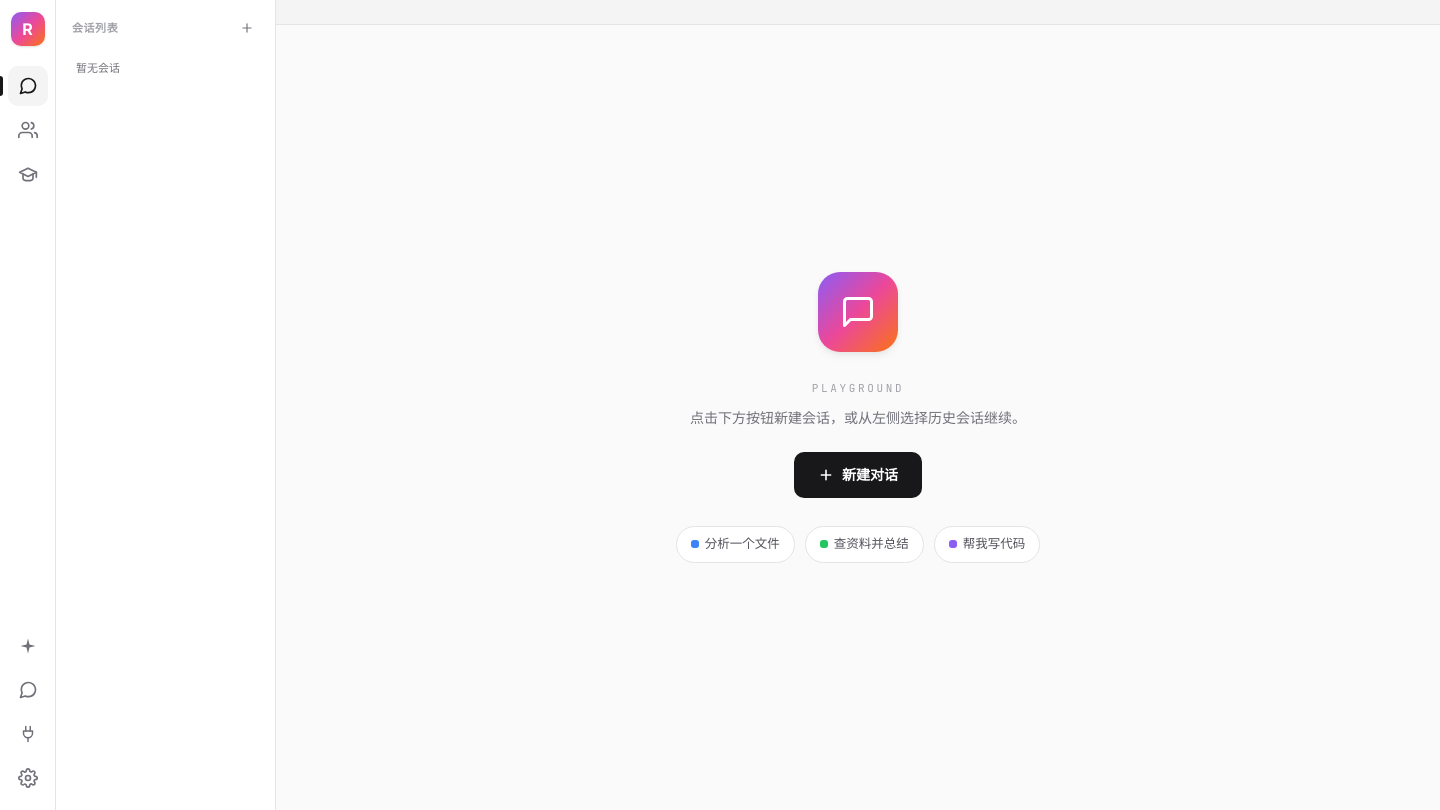
Test: AppShell（[v0.0.47] nav 删齿轮子菜单 + 底部三独立入口；[v0.0.210] +Academy） › 点 Academy → 主区切到 page-academy（[v0.0.210] Academy 教室培养板块）
Click the button named "Academy": (28, 174) [8,154,48,194]
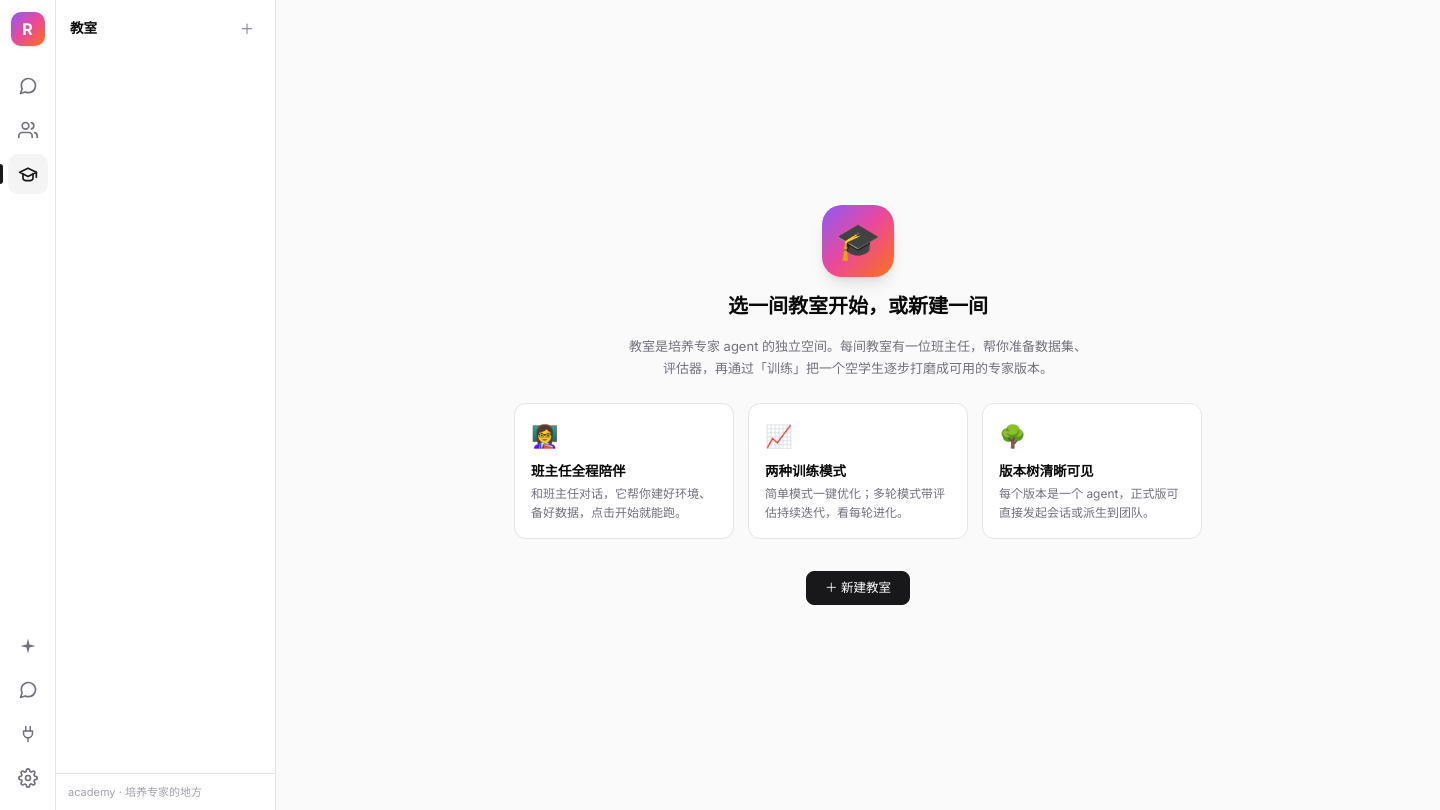
Expected: the heading "选一间教室开始，或新建一间" is shown, [728,291,988,321]
Expected: the text "会话列表" is gone
